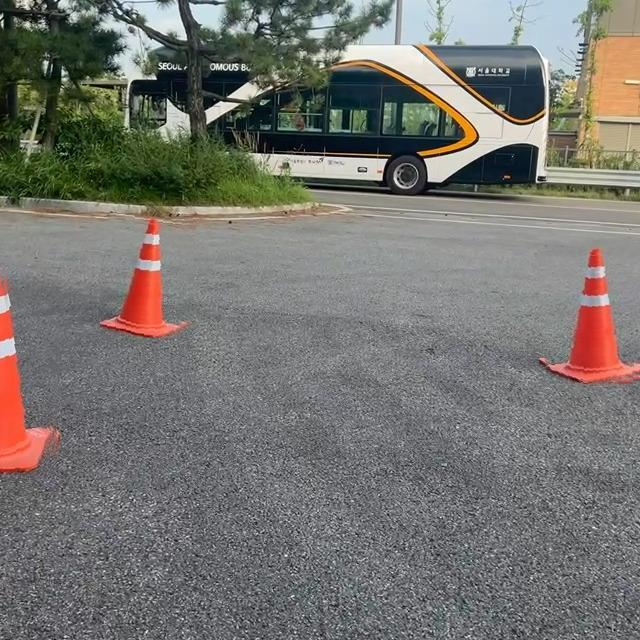fallen_object: (467, 215, 640, 493), (95, 193, 219, 372), (0, 270, 102, 476)
